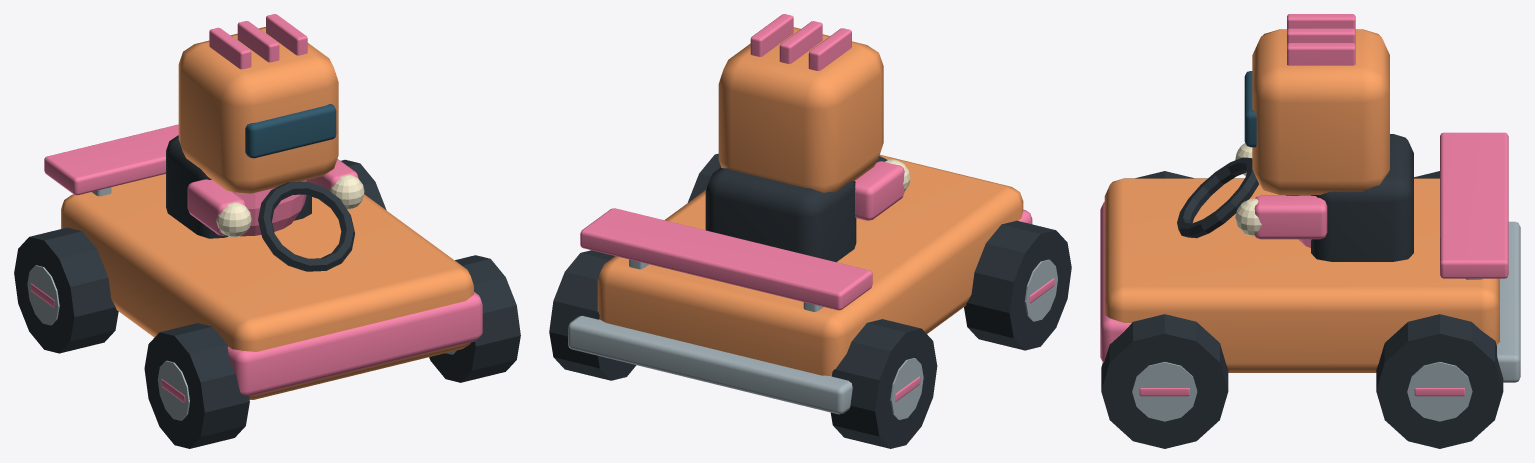
The model's file is kart-5.glb.
3 views of the same model, side by side, from view 1: azimuth 30°, elevation 25°; view 2: azimuth 150°, elevation 25°; view 3: azimuth 270°, elevation 25° (orthographic). The views are drawn at different scales.
Parts seen in each view (by area): view 1: Body.005, Helmet.005, Front shield.001, Tire.021, Tire.020, Tire.022, Wing.002, Steering wheel.005, Visor.005, Seat.005, Sleeve.010, Suit.005 (+9 smaller); view 2: Body.005, Helmet.005, Wing.002, Seat.005, Rear bumper.005, Tire.020, Tire.021, Tire.023, Sleeve.010, Hub.020, Hub.021, Flame fin.002 (+3 smaller); view 3: Body.005, Helmet.005, Tire.023, Tire.022, Wing.002, Seat.005, Sleeve.011, Steering wheel.005, Rear bumper.005, Hub.023, Hub.022, Flame fin.002 (+7 smaller).
Boxes of the visible parts, x1,y1,x2,y2 form: Body.005: (61, 174, 473, 399); Helmet.005: (178, 27, 338, 193); Front shield.001: (227, 292, 482, 396); Tire.021: (14, 227, 118, 353); Tire.020: (144, 323, 249, 448); Tire.022: (429, 255, 520, 382); Wing.002: (44, 124, 178, 195); Steering wheel.005: (258, 181, 354, 271); Visor.005: (245, 104, 336, 158); Seat.005: (166, 135, 311, 238); Sleeve.010: (187, 179, 245, 235); Suit.005: (232, 180, 306, 236); Body.005: (597, 154, 1023, 375); Helmet.005: (718, 27, 883, 192); Wing.002: (580, 208, 872, 310); Seat.005: (705, 167, 856, 262); Rear bumper.005: (568, 315, 852, 414); Tire.020: (964, 220, 1071, 350); Tire.021: (830, 319, 937, 448); Tire.023: (549, 250, 636, 380); Sleeve.010: (855, 161, 904, 220); Hub.020: (1024, 259, 1057, 321); Hub.021: (890, 358, 923, 419); Flame fin.002: (750, 14, 793, 56); Body.005: (1104, 178, 1499, 372); Helmet.005: (1252, 29, 1389, 194); Tire.023: (1376, 314, 1503, 448); Tire.022: (1101, 314, 1228, 448); Wing.002: (1440, 132, 1508, 278); Seat.005: (1311, 134, 1413, 261); Sleeve.011: (1254, 195, 1327, 239); Steering wheel.005: (1177, 157, 1258, 238); Rear bumper.005: (1497, 221, 1520, 382); Hub.023: (1407, 362, 1472, 421); Hub.022: (1132, 362, 1197, 421); Flame fin.002: (1287, 43, 1355, 65).
Size of the model in its own units: 2.27 by 2.17 by 2.44.
